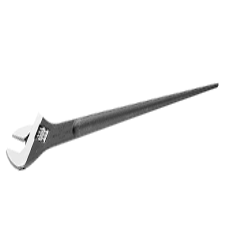Wrench: (4, 86, 225, 174)
